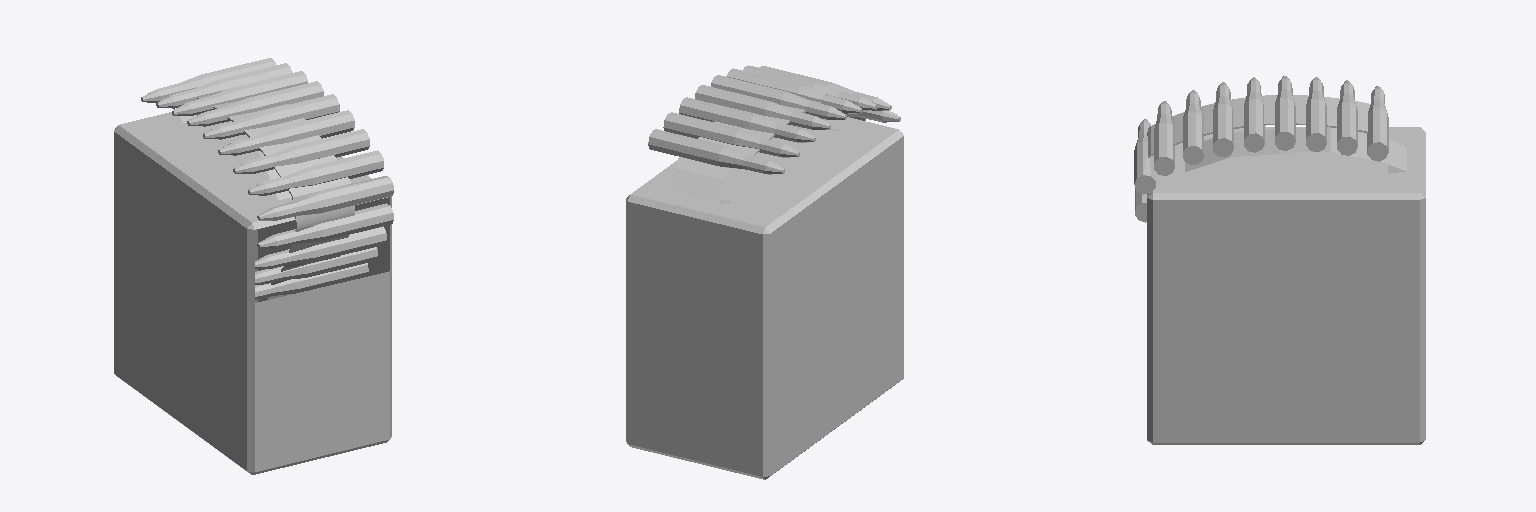
File: H4D005 Ammo Box.obj
The picture shows the model from 3 angles: view 1: azimuth 30°, elevation 25°; view 2: azimuth 150°, elevation 25°; view 3: azimuth 270°, elevation 25°; orthographic projection.
Visible parts, largest first — view 1: AmmoBox, AmmoBelt; view 2: AmmoBox, AmmoBelt; view 3: AmmoBox, AmmoBelt.
Part boxes in pixels (x1,y1,x2,y2): AmmoBox: (114, 112, 391, 474); AmmoBelt: (141, 58, 393, 299); AmmoBox: (626, 117, 903, 479); AmmoBelt: (648, 65, 900, 174); AmmoBox: (1147, 127, 1425, 444); AmmoBelt: (1134, 76, 1388, 222).
Bounding box in the file's own units: 4.47 × 9.21 × 7.78.